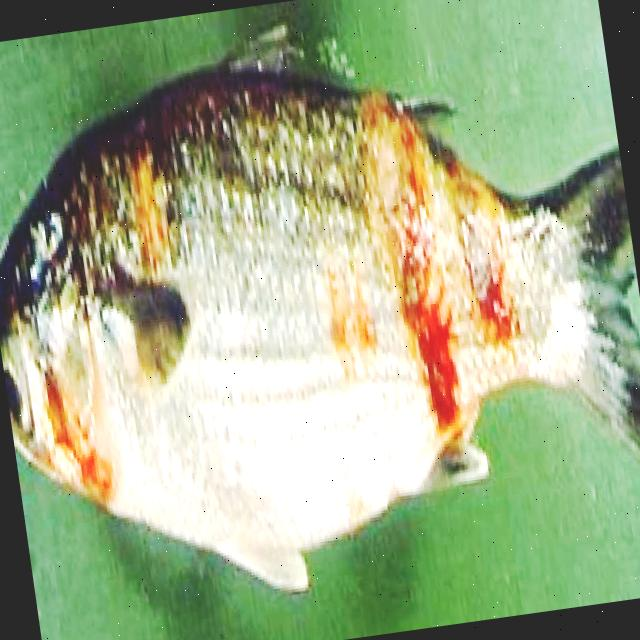Edwardsiella Ictaluri -Bacterial Red Disease-: (0, 1, 640, 588)
